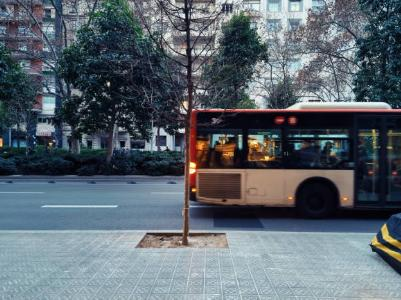vehicle: (190, 102, 401, 217)
